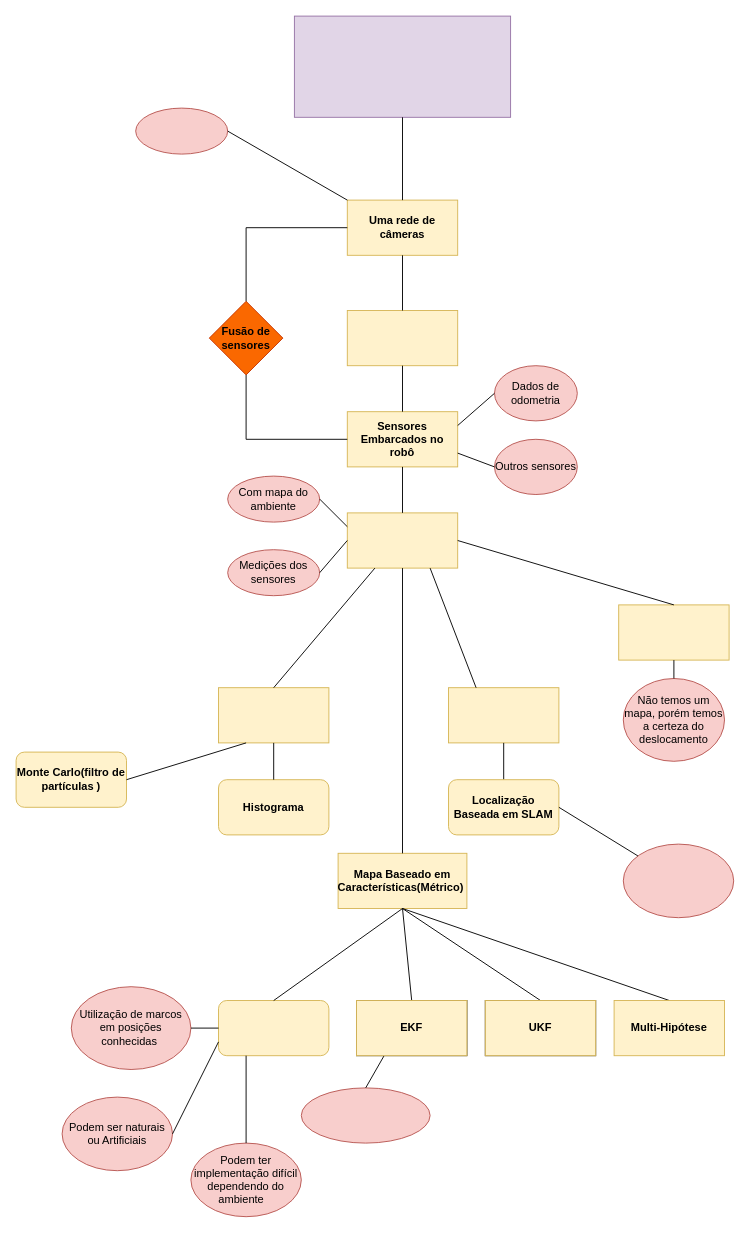
The diagram is 750 pixels wide and 1233 high, and some of its shapes have lost their labels. The shapes that lost their labels are listed below. From the top down, each one's centre as x and y in pixels, then its label:
At point (402, 66): "Localizar e controlar o robô Lysa.".
At point (181, 130): "Não há erro acumulativo".
At point (402, 338): "Zona mortas".
At point (402, 540): "Técnicas de Localização Global".
At point (673, 632): "Occupancy Grid Map".
At point (273, 715): "Mapa Baseado em Grade(Coordenadas)".
At point (503, 715): "Topólogica".
At point (678, 880): "Mapeamento e localização de forma simultânea".
At point (273, 1028): "Marcos".
At point (365, 1115): "Eficiente, preciso e rápido para pequenos mapas".
